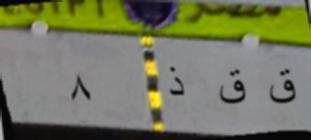8: (55, 72, 97, 106)
qaaf: (215, 63, 253, 111), (261, 67, 300, 111)
zaal: (164, 57, 192, 105)
